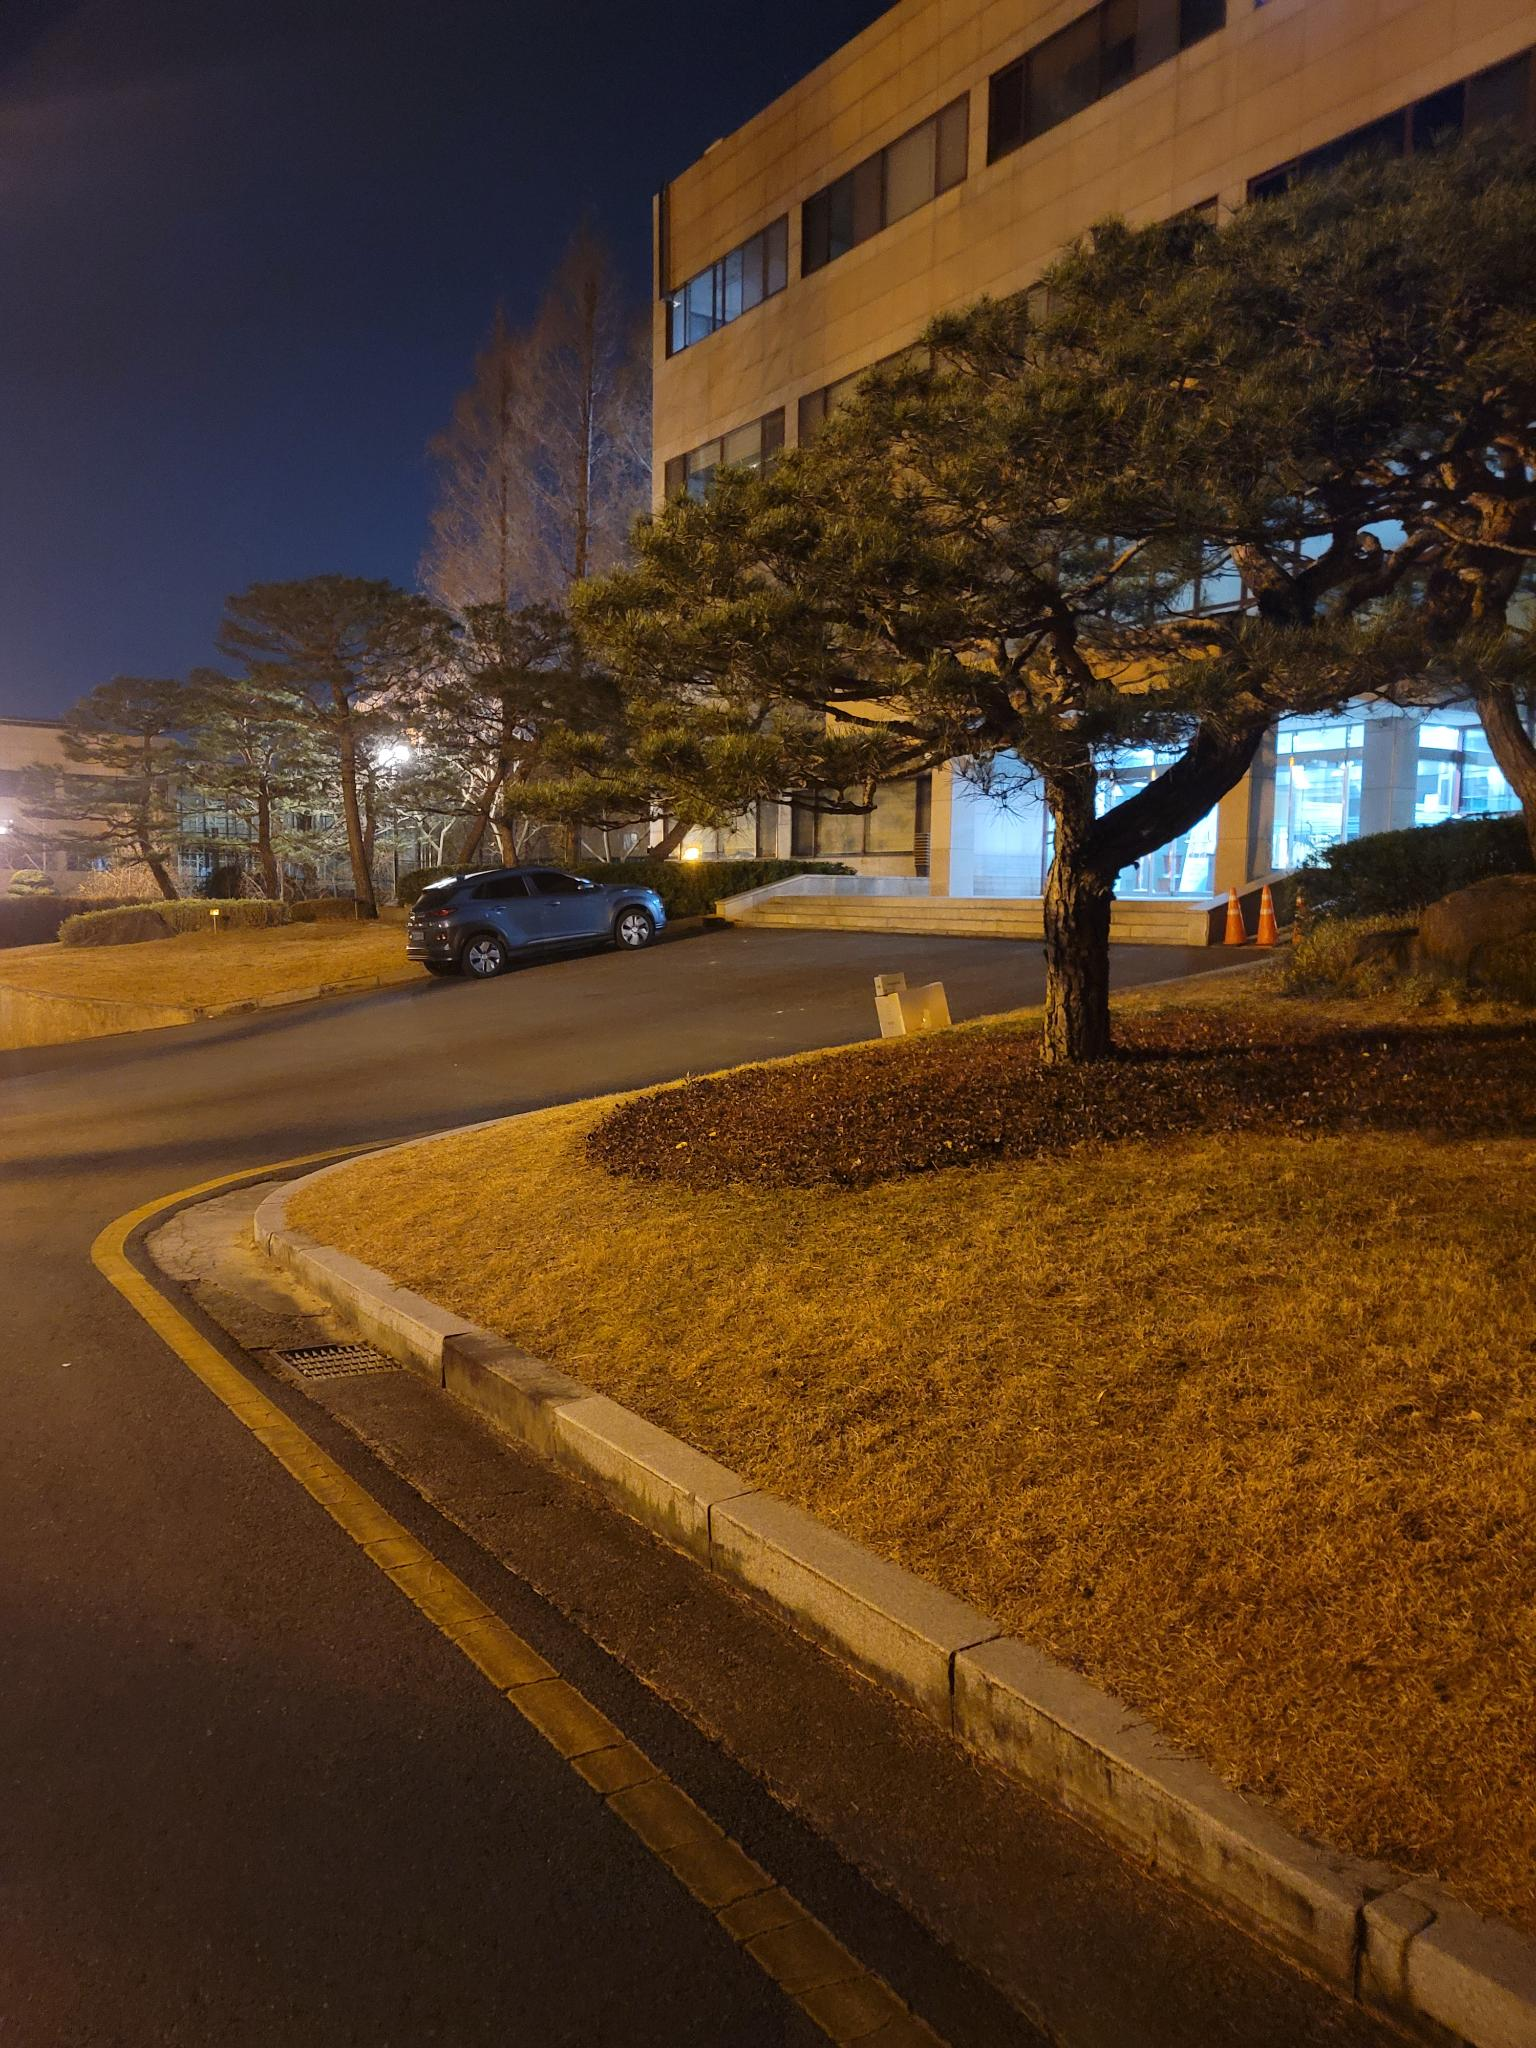Box: (874, 980, 954, 1035), (870, 969, 916, 1003)
